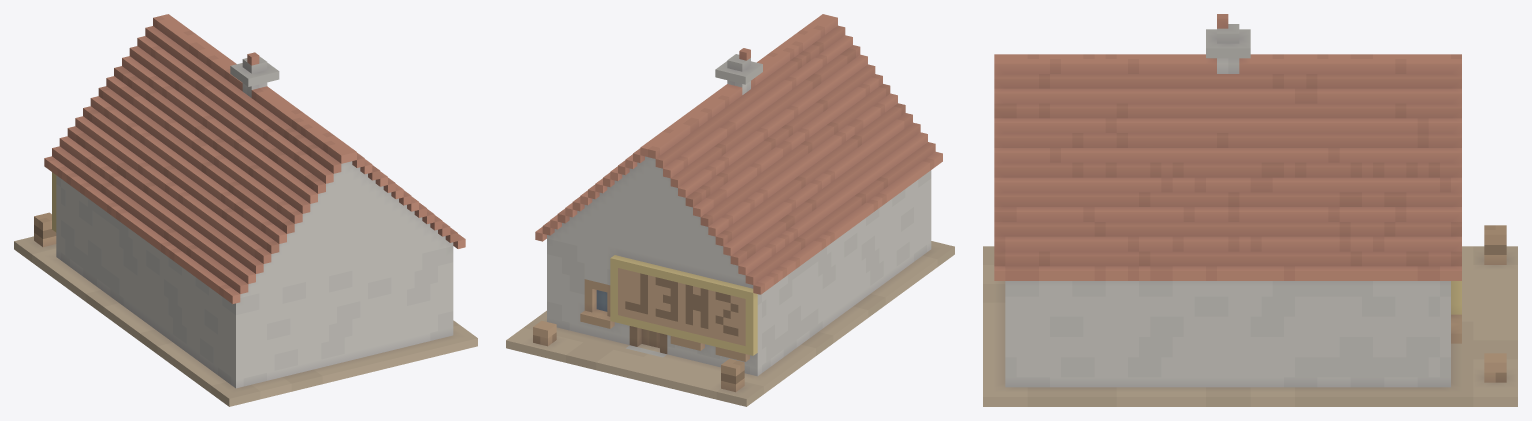
The model's file is smelter.glb.
3 renders of one model, left to right at view 1: azimuth 30°, elevation 25°; view 2: azimuth 150°, elevation 25°; view 3: azimuth 270°, elevation 25°, orthographic. The views are drawn at different scales.
Visible parts, largest first — view 1: smelter; view 2: smelter; view 3: smelter.
Part boxes in pixels (x1,y1,x2,y2): smelter: (14,14,477,406); smelter: (506,14,954,406); smelter: (983,14,1517,406).
Size of the model in its own units: 4 by 3.88 by 6.
